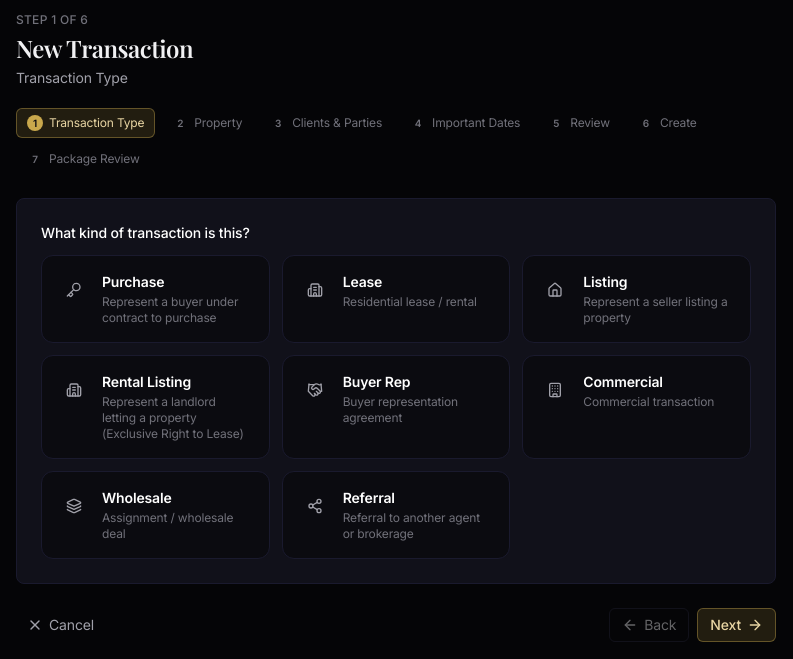
Test: WizardShell — navigation › Next advances and syncs the ?step= URL (after the step validates)
Expected: the element with test id "wizard-step-type" is shown, [41,223,751,559]
Click the radio button labelled "Purchase Represent a buyer under contract to purchase" at (155, 299), box [41,255,270,343]
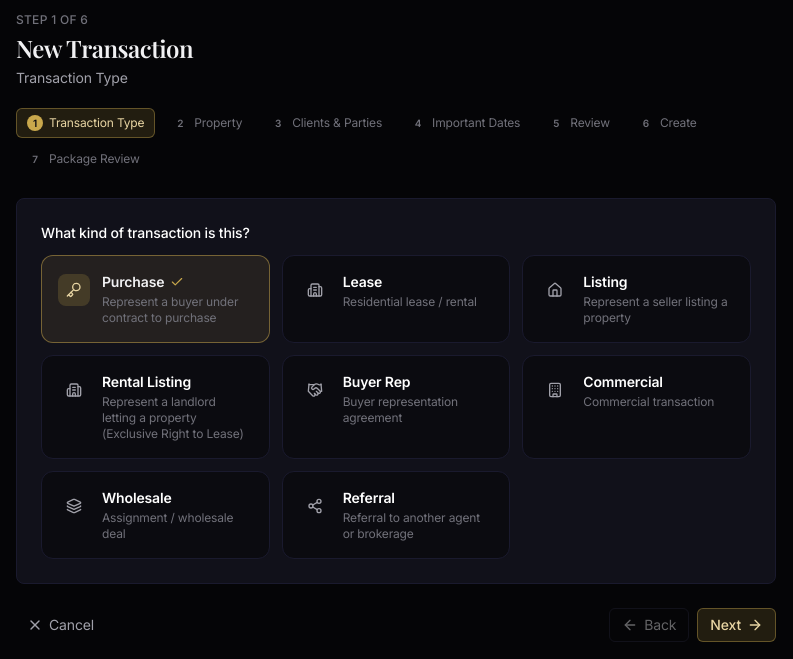
Click the button "Next" at (737, 625), box [697,608,776,642]
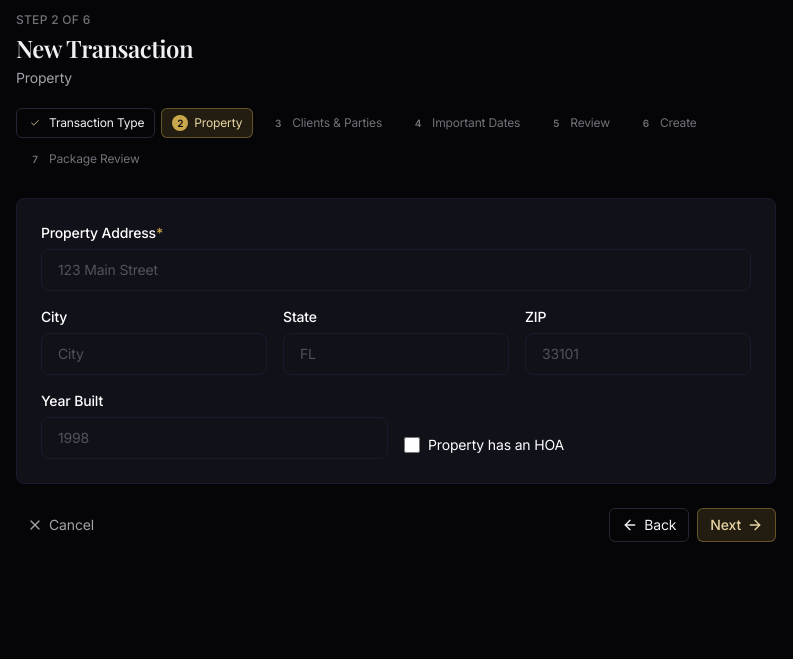
Result: the element with test id "wizard-step-property" is shown at [41,223,751,459]
